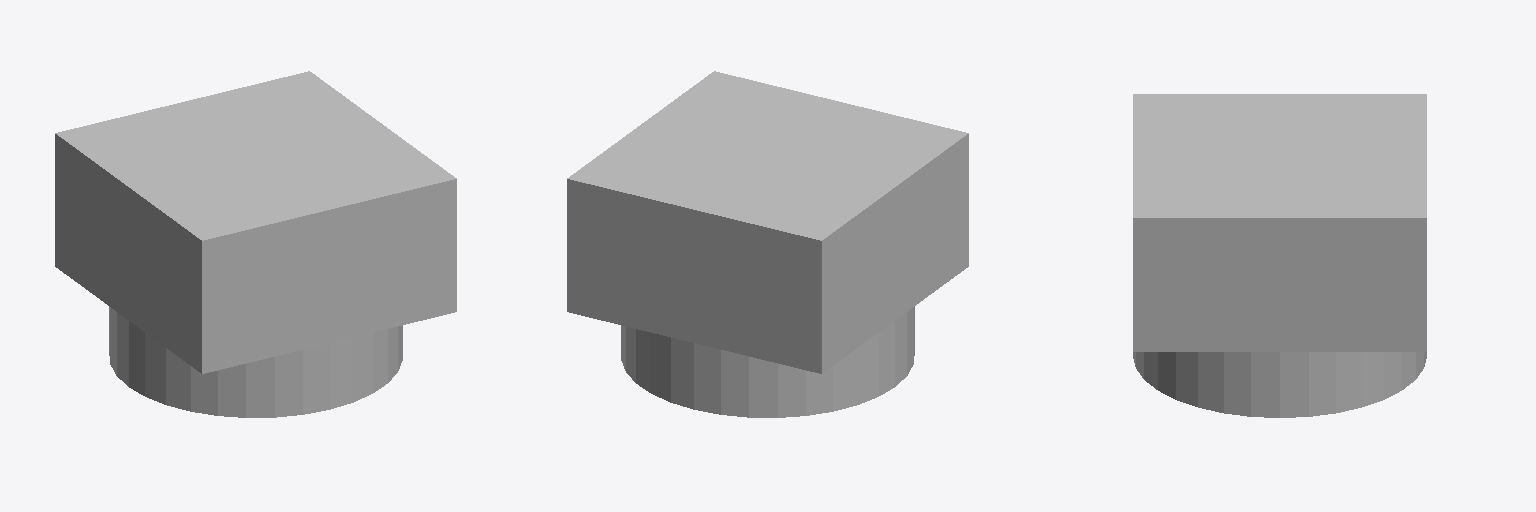
The model's file is source.obj.
The picture shows the model from 3 angles: view 1: azimuth 30°, elevation 25°; view 2: azimuth 150°, elevation 25°; view 3: azimuth 270°, elevation 25°; orthographic projection.
Visible parts, largest first — view 1: Circle; view 2: Circle; view 3: Circle.
Part boxes in pixels (x1,y1,x2,y2): Circle: (55, 71, 456, 417); Circle: (567, 71, 968, 417); Circle: (1133, 94, 1426, 417).
Size of the model in its own units: 2 by 1.5 by 2.